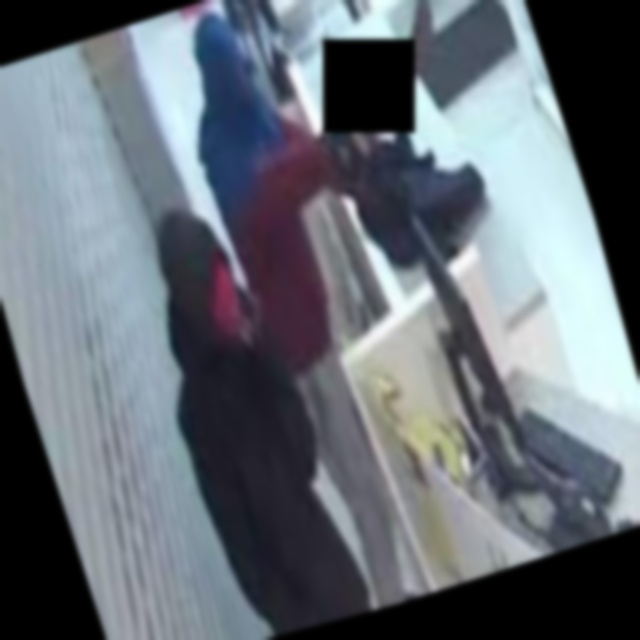gun: (292, 0, 475, 175)
